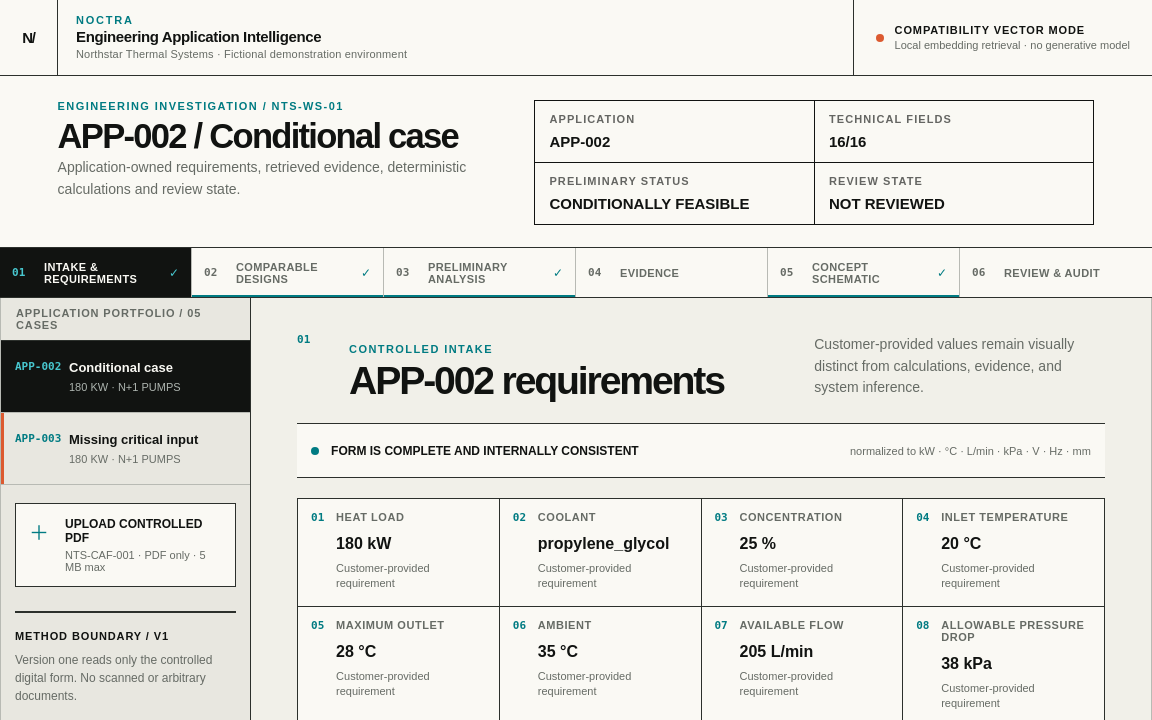
it: workspace › clears the previous SVG immediately and preserves direct Concept schematic navigation
Expected: the heading "APP-002 requirements" is shown, left=349, top=359, right=724, bottom=402
Click the button "05 Concept schematic ✓": (864, 272) left=768, top=248, right=960, bottom=297
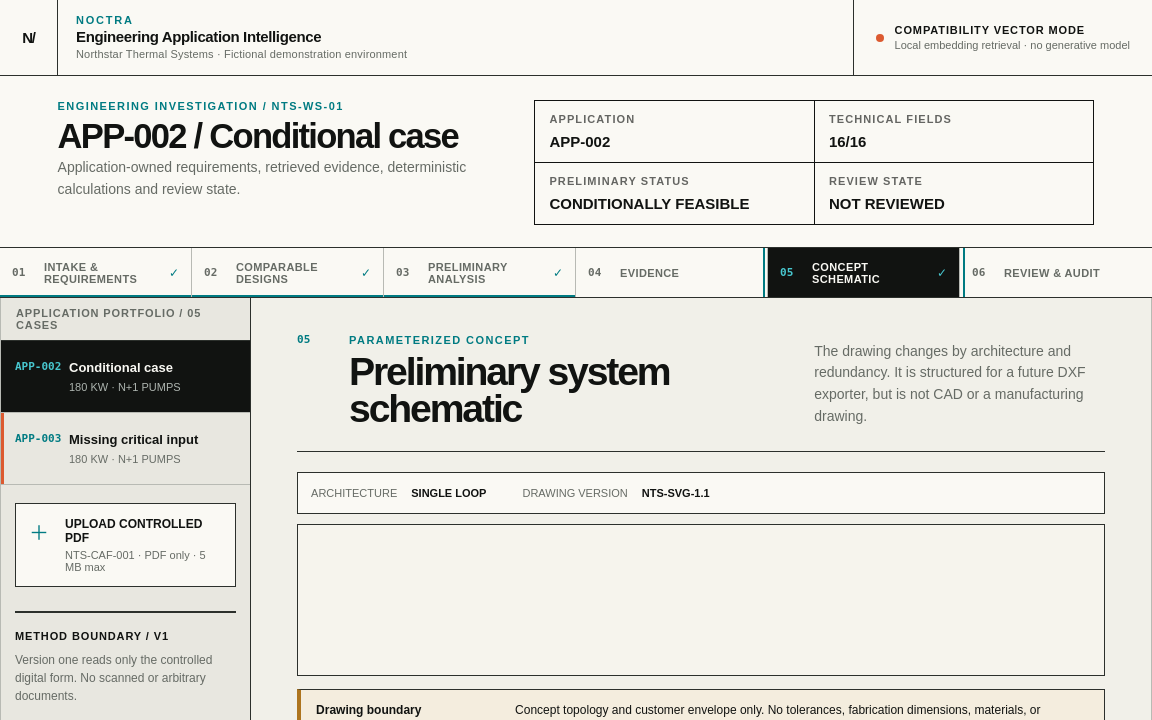
Expected: the icon named "APP-002 schematic" is shown, left=298, top=525, right=1104, bottom=675
Click the button "APP-003 Missing critical input 180 kW · n+1 pumps": (126, 449) left=1, top=413, right=250, bottom=485
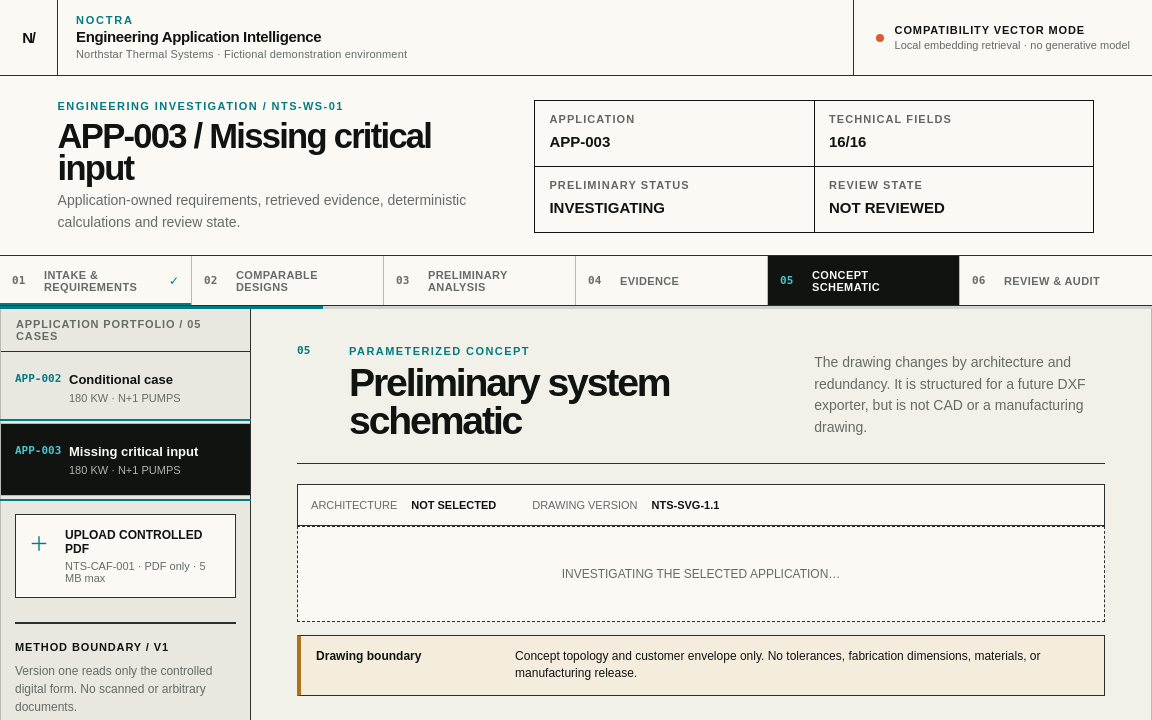
Expected: the text labelled "APP-002 schematic" is gone
Expected: the text "Not Selected" is shown, left=411, top=499, right=496, bottom=511
Expected: the text "Investigating the selected application…" is shown, left=297, top=526, right=1105, bottom=622
